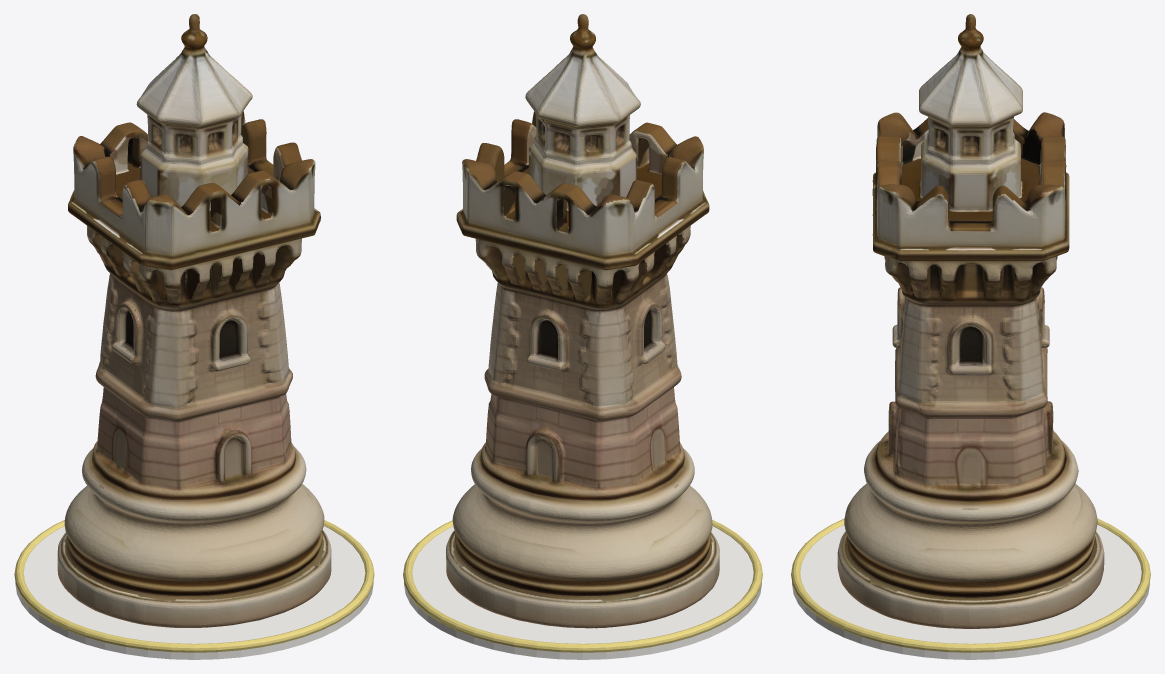
Rendered from rook-classic-torre.glb.
3 renders of one model, left to right at view 1: azimuth 30°, elevation 25°; view 2: azimuth 150°, elevation 25°; view 3: azimuth 270°, elevation 25°, orthographic.
Parts seen in each view (by area): view 1: tmpia244i8o.ply, FactionPedestal, FactionTrimRing; view 2: tmpia244i8o.ply, FactionPedestal, FactionTrimRing; view 3: tmpia244i8o.ply, FactionPedestal, FactionTrimRing.
Boxes of the visible parts, x1,y1,x2,y2 form: tmpia244i8o.ply: (57, 14, 331, 627); FactionPedestal: (15, 526, 373, 659); FactionTrimRing: (14, 520, 374, 652); tmpia244i8o.ply: (446, 14, 719, 628); FactionPedestal: (404, 526, 761, 659); FactionTrimRing: (403, 520, 762, 652); tmpia244i8o.ply: (837, 14, 1104, 628); FactionPedestal: (792, 525, 1149, 659); FactionTrimRing: (791, 518, 1150, 652).
Bounding box in the file's own units: 0.744 × 1.3 × 0.744.
Materials: 3 (1 with a texture image).
